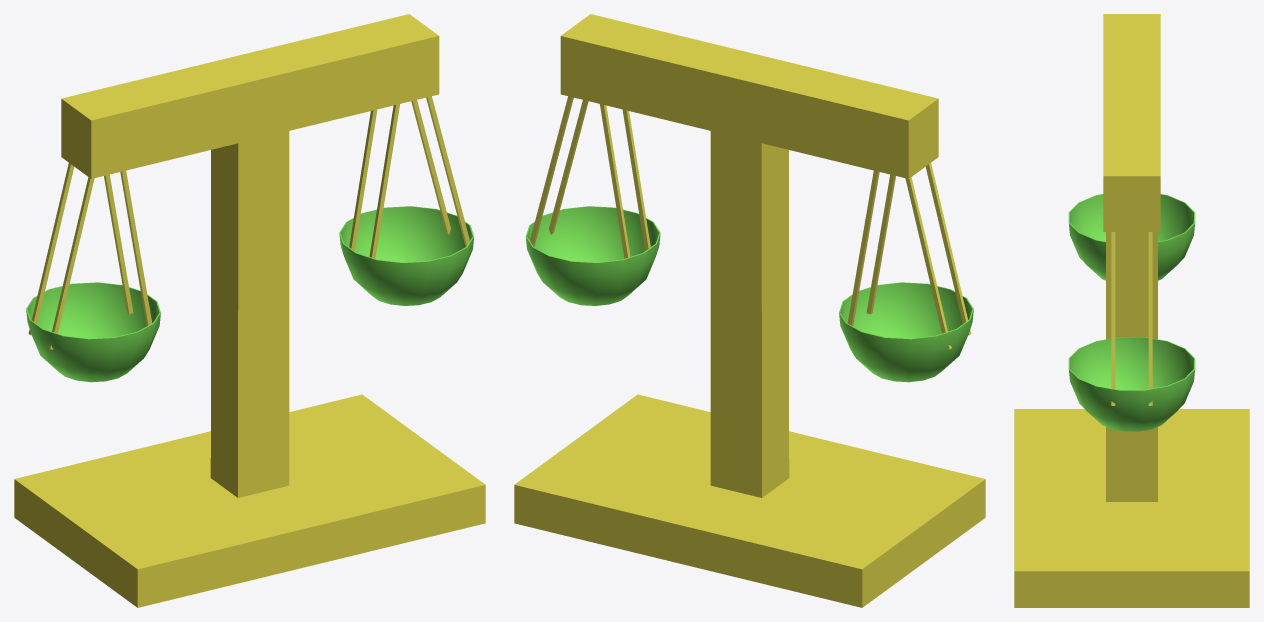
The model's file is 4 scales.fbx.
3 renders of one model, left to right at view 1: azimuth 30°, elevation 25°; view 2: azimuth 150°, elevation 25°; view 3: azimuth 270°, elevation 25°, orthographic. The views are drawn at different scales.
Parts seen in each view (by area): view 1: 4 scales; view 2: 4 scales; view 3: 4 scales.
Boxes of the visible parts, left/top/right/bottom form: 4 scales: left=14, top=14, right=485, bottom=607; 4 scales: left=514, top=14, right=985, bottom=607; 4 scales: left=1014, top=14, right=1249, bottom=607.
Bounding box in the file's own units: 12.79 × 12.95 × 6.39.
